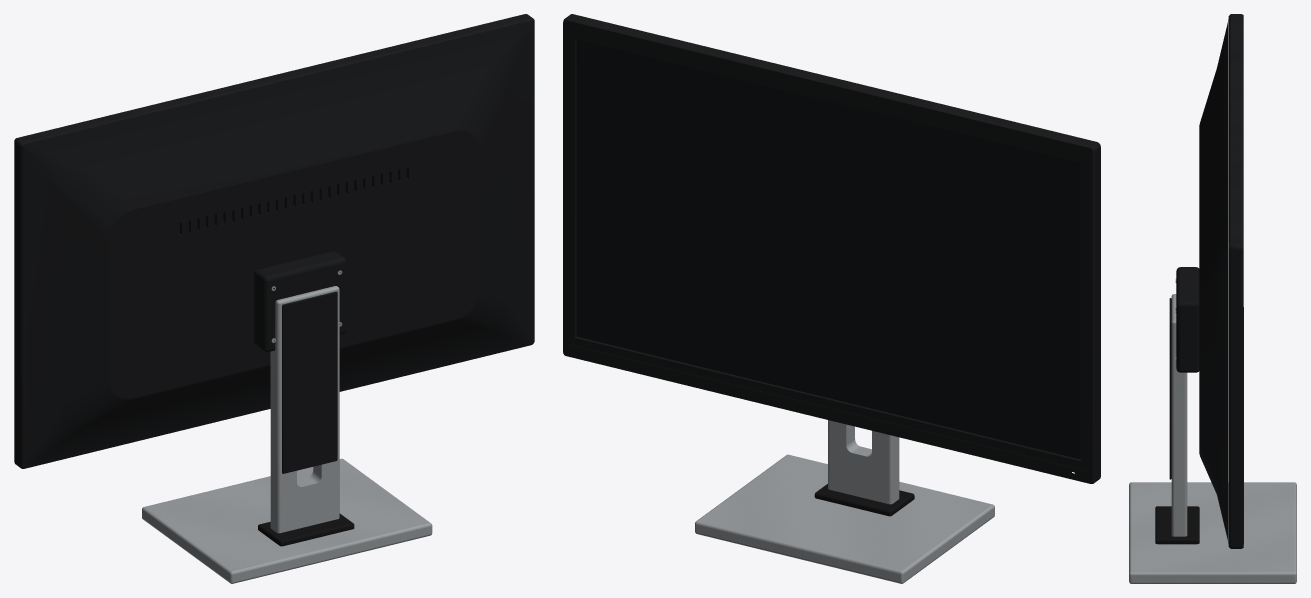
File: monitor_24.glb
3 views of the same model, side by side, from view 1: azimuth 30°, elevation 25°; view 2: azimuth 150°, elevation 25°; view 3: azimuth 270°, elevation 25° (orthographic). The views are drawn at different scales.
Visible parts, largest first — view 1: panel, stand; view 2: screen, panel, stand; view 3: panel, stand.
Boxes of the visible parts, bbox=[...] form: panel: bbox=[14, 14, 534, 468]; stand: bbox=[142, 286, 432, 583]; screen: bbox=[576, 39, 1080, 459]; panel: bbox=[563, 14, 1100, 483]; stand: bbox=[695, 420, 994, 583]; panel: bbox=[1175, 14, 1243, 548]; stand: bbox=[1129, 294, 1296, 583].
Size of the model in its own units: 0.56 by 0.46 by 0.17.
4 materials, 2 textured.
